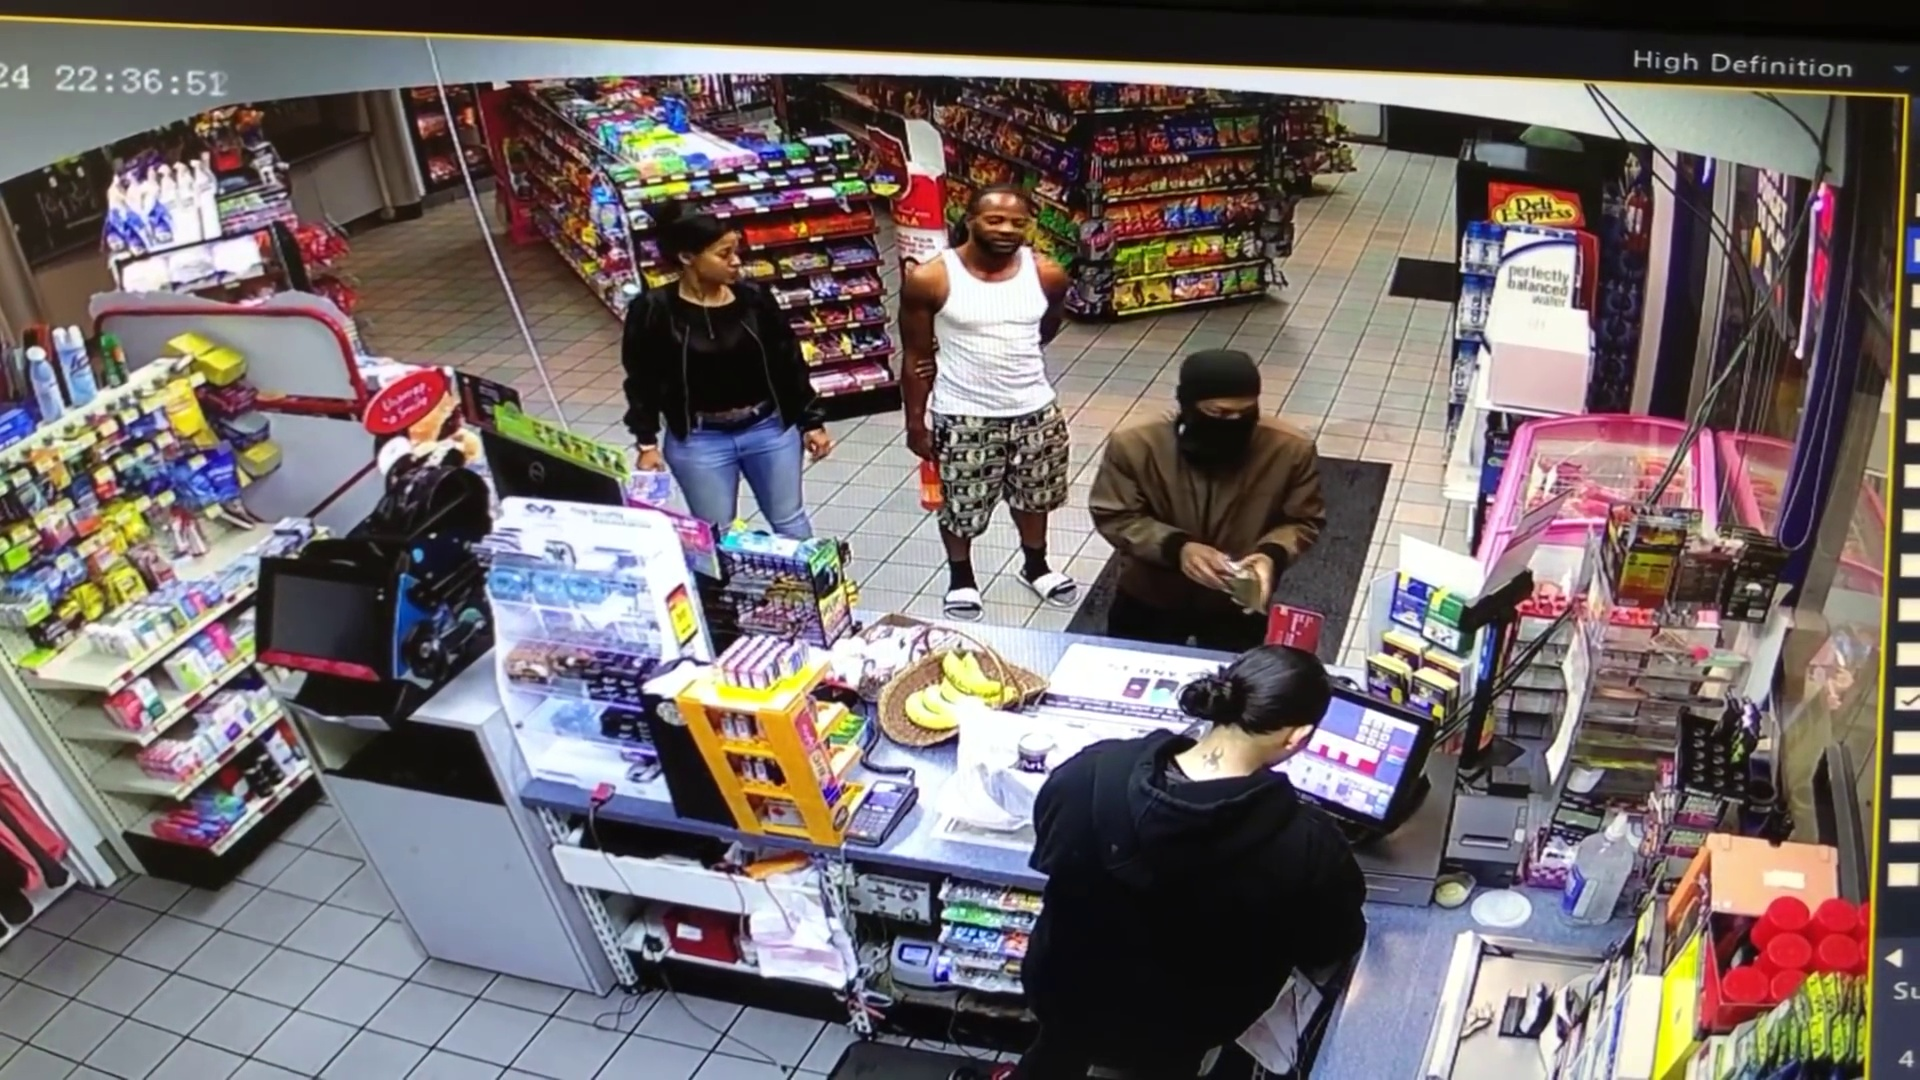face: (1192, 387, 1257, 450), (980, 201, 1027, 259), (691, 234, 742, 285)
